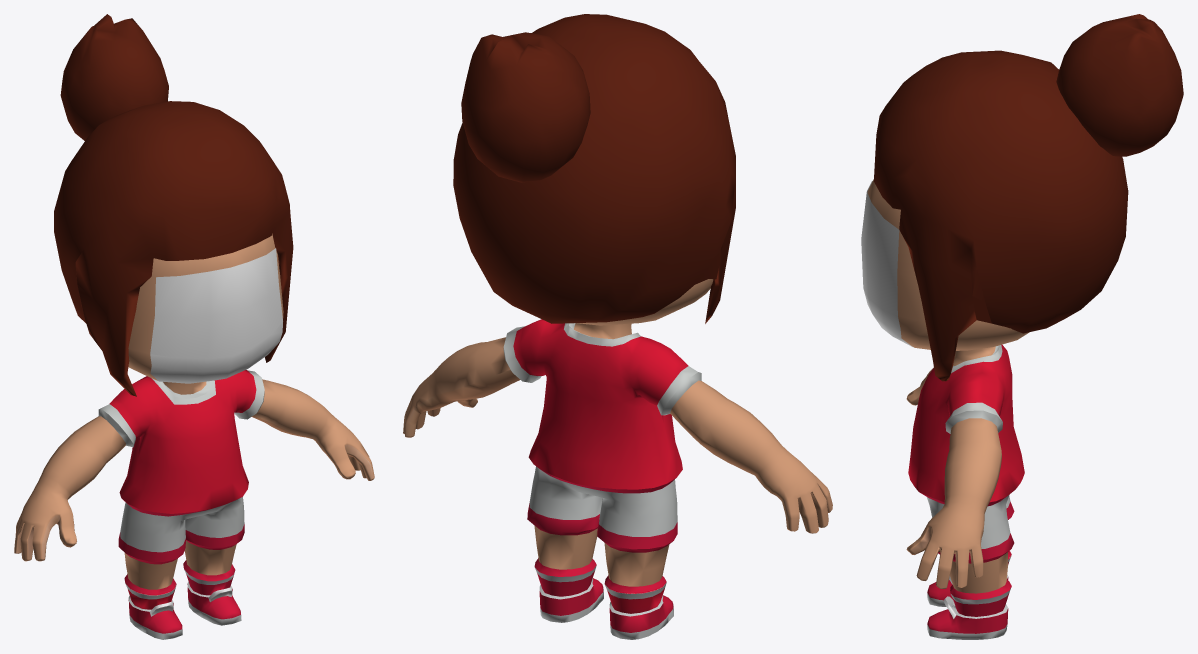
The model's file is GIRL.fbx.
The picture shows the model from 3 angles, left to right: view 1: azimuth 30°, elevation 25°; view 2: azimuth 150°, elevation 25°; view 3: azimuth 270°, elevation 25°; orthographic projection. The views are drawn at different scales.
Visible parts, largest first — view 1: Object_89; view 2: Object_89; view 3: Object_89.
Part boxes in pixels (bbox=[...]): Object_89: bbox=[14, 14, 374, 639]; Object_89: bbox=[403, 14, 832, 639]; Object_89: bbox=[861, 14, 1183, 639].
Size of the model in its own units: 378 by 563 by 275.
Materials: 2 (1 with a texture image).
